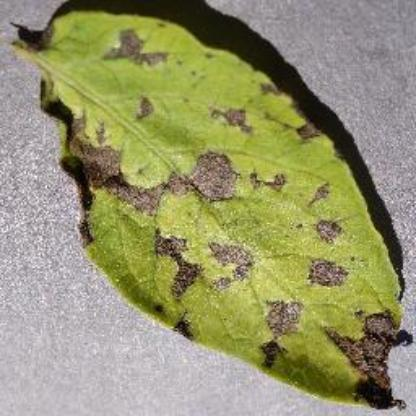Early-Blight: (8, 9, 410, 409)
